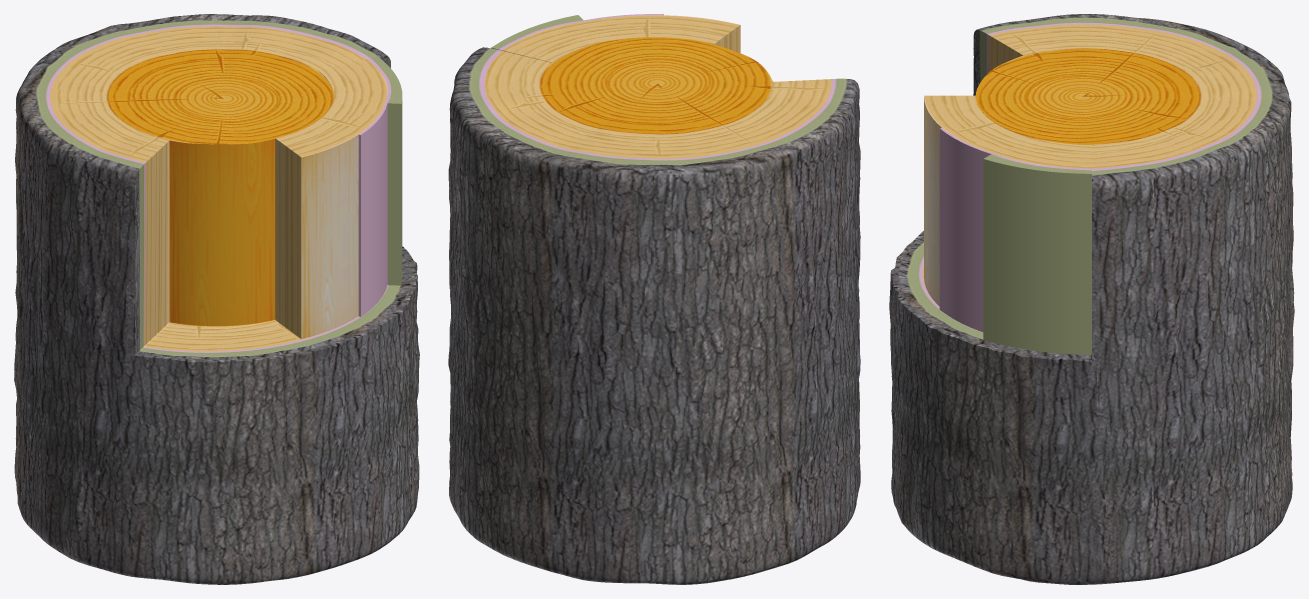
File: shugeng1.fbx
3 renders of one model, left to right at view 1: azimuth 30°, elevation 25°; view 2: azimuth 150°, elevation 25°; view 3: azimuth 270°, elevation 25°, orthographic. The views are drawn at different scales.
Parts seen in each view (by area): view 1: wood2:wood1_exported:polySurface1; view 2: wood2:wood1_exported:polySurface1; view 3: wood2:wood1_exported:polySurface1.
Part boxes in pixels (<box>): wood2:wood1_exported:polySurface1: <box>14,14,419,584</box>; wood2:wood1_exported:polySurface1: <box>448,14,860,584</box>; wood2:wood1_exported:polySurface1: <box>889,14,1294,584</box>.
Size of the model in its own units: 119 by 132 by 119.
